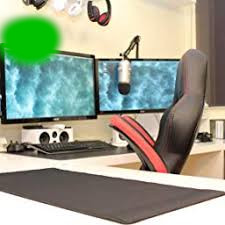focus: (1, 12, 60, 67)
